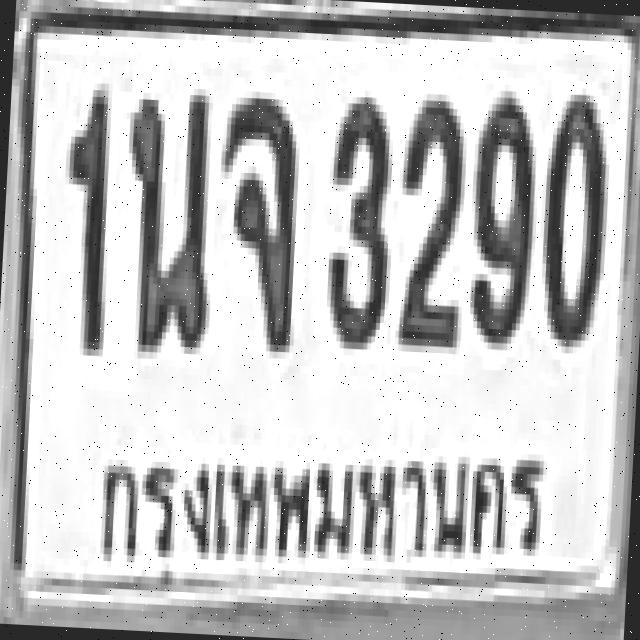0: (535, 86, 610, 342)
1: (56, 82, 109, 349)
17ChorChan: (214, 87, 300, 349)
2: (392, 89, 468, 344)
3: (321, 89, 392, 344)
34NorNu: (117, 81, 216, 352)
9: (465, 86, 536, 342)
Bangkok: (86, 412, 557, 604)
